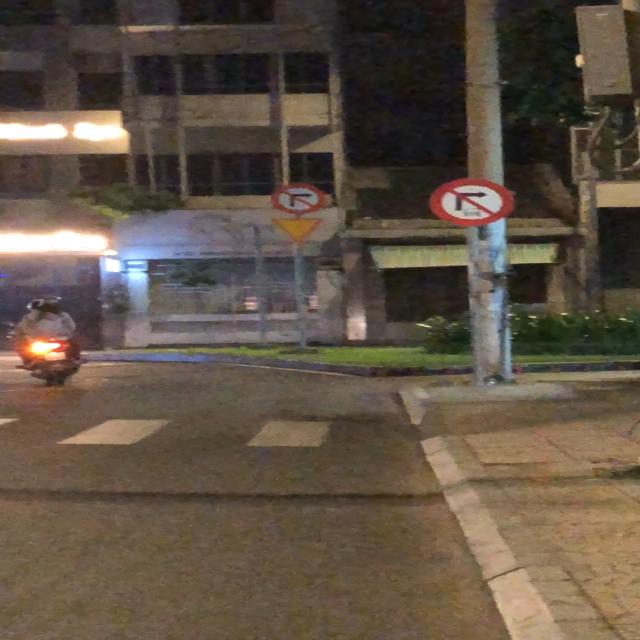Bien bao cam re phai: (267, 182, 328, 216)
Bien bao cam xe o to re phai: (426, 175, 522, 228)
Bien bao giao nhau voi duong uu tien: (270, 216, 326, 246)
